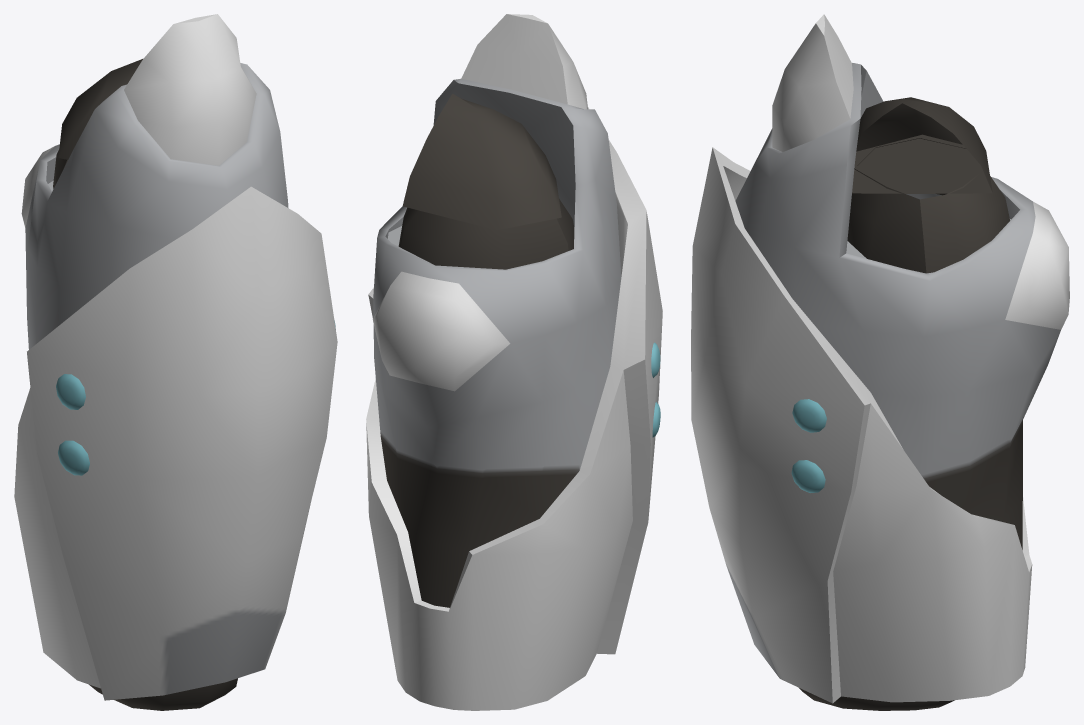
File: ranger_thigh.fbx
The picture shows the model from 3 angles, left to right: view 1: azimuth 30°, elevation 25°; view 2: azimuth 150°, elevation 25°; view 3: azimuth 270°, elevation 25°; orthographic projection. The views are drawn at different scales.
Visible parts, largest first — view 1: right_thigh; view 2: right_thigh; view 3: right_thigh.
Boxes of the visible parts, bbox=[...] form: right_thigh: bbox=[14, 14, 337, 710]; right_thigh: bbox=[366, 14, 662, 710]; right_thigh: bbox=[691, 14, 1069, 710].
Size of the model in its own units: 24.02 by 52.74 by 27.16.
